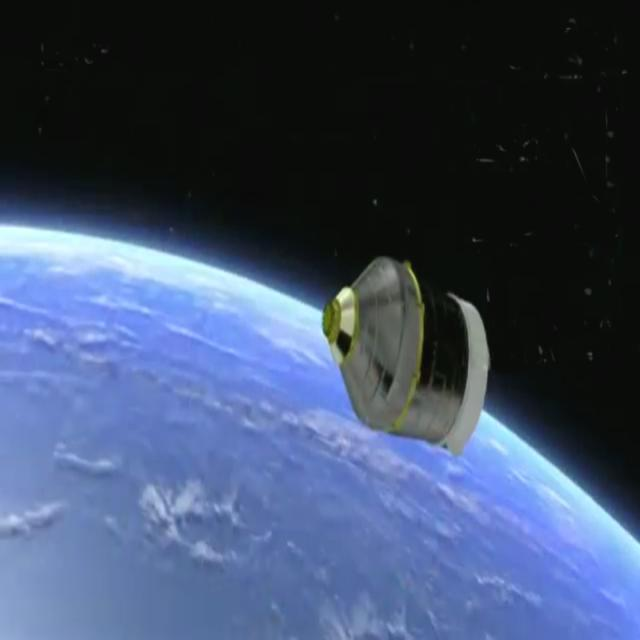medium_debris: (313, 205, 502, 500)
